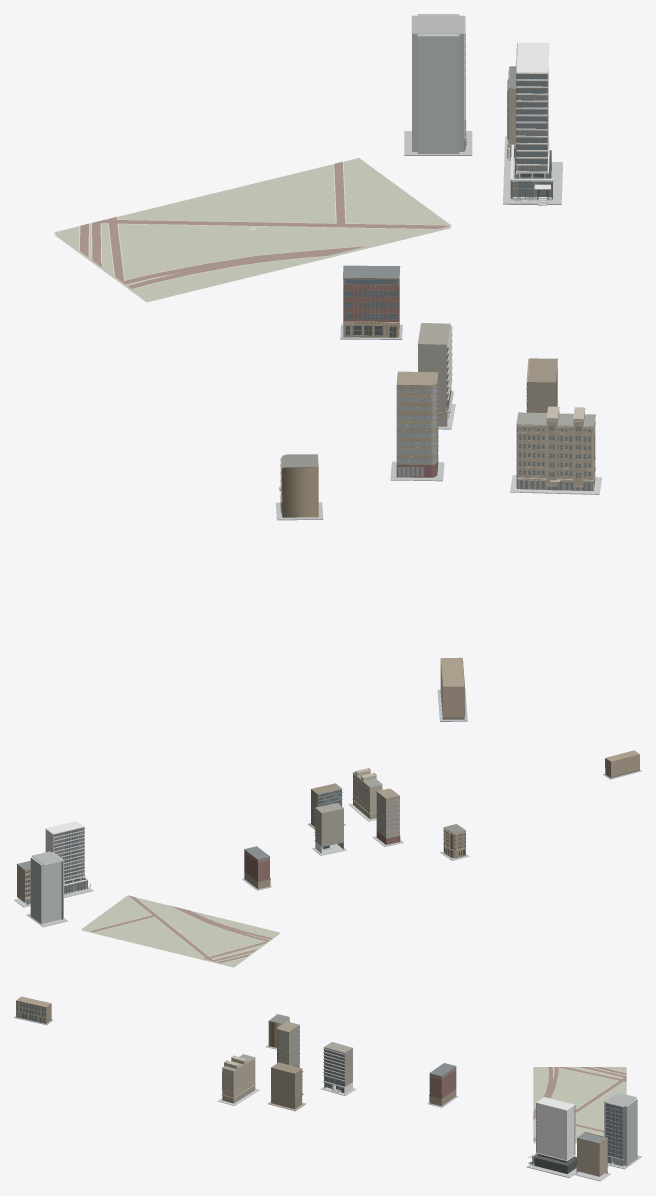
File: bogota.glb
The picture shows the model from 3 angles, top to bottom: view 1: azimuth 30°, elevation 25°; view 2: azimuth 150°, elevation 25°; view 3: azimuth 270°, elevation 25°; orthographic projection. The views are drawn at different scales.
Visible parts, largest first — view 1: Terreno.001, PATRIMONIO_02__Cuerpo principal del edificio, MAPA_V1_CALZADAS_COLOR_PIEDRA.001, PATRIMONIO_08__Cuerpo principal piedra, PATRIMONIO_10__Cuerpo de piedra con esquina curva REAL, MANZANAS_BORDES_DE_ACERA_SUTILES.001, PATRIMONIO_02__Pared lateral ciega, PATRIMONIO_05__Cuerpo de ladrillo, PATRIMONIO_06__Cuerpo superior, PATRIMONIO_04__Base de presentacion.001, PATRIMONIO_04__Azotea plana; view 2: Terreno.001, PATRIMONIO_02__Cuerpo principal del edificio, MAPA_V1_CALZADAS_COLOR_PIEDRA.001, PATRIMONIO_06__Cuerpo superior, PATRIMONIO_08__Cuerpo principal piedra, MANZANAS_BORDES_DE_ACERA_SUTILES.001, PATRIMONIO_11__Volumen principal de piedra, PATRIMONIO_05__Cuerpo de ladrillo, PATRIMONIO_03__Cuerpo principal revestido de piedra, PATRIMONIO_10__Cuerpo de piedra con esquina curva REAL; view 3: Terreno.001, PATRIMONIO_04__Nucleo torre, PATRIMONIO_02__Cuerpo principal del edificio, PATRIMONIO_03__Cuerpo principal revestido de piedra, MAPA_V1_CALZADAS_COLOR_PIEDRA.001, PATRIMONIO_08__Cuerpo principal piedra, PATRIMONIO_09__Cuerpo superior beige, PATRIMONIO_05__Cuerpo de ladrillo, PATRIMONIO_04__Interior de basamento retranqueado, PATRIMONIO_06__Cuerpo superior, MANZANAS_BORDES_DE_ACERA_SUTILES.001.
Boxes of the visible parts, x1,y1,x2,y2 form: Terreno.001: (54,158,451,302); PATRIMONIO_02__Cuerpo principal del edificio: (417,14,459,153); MAPA_V1_CALZADAS_COLOR_PIEDRA.001: (80,162,450,288); PATRIMONIO_08__Cuerpo principal piedra: (516,421,595,479); PATRIMONIO_10__Cuerpo de piedra con esquina curva REAL: (282,467,318,517); MANZANAS_BORDES_DE_ACERA_SUTILES.001: (79,161,451,289); PATRIMONIO_02__Pared lateral ciega: (412,34,464,151); PATRIMONIO_05__Cuerpo de ladrillo: (343,279,399,321); PATRIMONIO_06__Cuerpo superior: (418,344,447,412); PATRIMONIO_04__Base de presentacion.001: (503,161,562,204); PATRIMONIO_04__Azotea plana: (517,42,548,72); Terreno.001: (81,895,279,967); PATRIMONIO_02__Cuerpo principal del edificio: (30,852,63,924); MAPA_V1_CALZADAS_COLOR_PIEDRA.001: (90,895,272,963); PATRIMONIO_06__Cuerpo superior: (315,808,343,846); PATRIMONIO_08__Cuerpo principal piedra: (353,774,382,813); MANZANAS_BORDES_DE_ACERA_SUTILES.001: (90,895,272,963); PATRIMONIO_11__Volumen principal de piedra: (605,754,639,776); PATRIMONIO_05__Cuerpo de ladrillo: (244,853,269,881); PATRIMONIO_03__Cuerpo principal revestido de piedra: (17,865,30,902); PATRIMONIO_10__Cuerpo de piedra con esquina curva REAL: (443,828,465,858); Terreno.001: (533,1067,626,1143); PATRIMONIO_04__Nucleo torre: (536,1103,574,1160); PATRIMONIO_02__Cuerpo principal del edificio: (604,1093,637,1165); PATRIMONIO_03__Cuerpo principal revestido de piedra: (577,1139,607,1176); MAPA_V1_CALZADAS_COLOR_PIEDRA.001: (533,1067,626,1141); PATRIMONIO_08__Cuerpo principal piedra: (222,1058,255,1097); PATRIMONIO_09__Cuerpo superior beige: (271,1068,302,1098); PATRIMONIO_05__Cuerpo de ladrillo: (429,1070,456,1098); PATRIMONIO_04__Interior de basamento retranqueado: (534,1155,576,1173); PATRIMONIO_06__Cuerpo superior: (324,1047,352,1086); MANZANAS_BORDES_DE_ACERA_SUTILES.001: (533,1067,626,1141).
Bounding box in the file's own units: 254 × 46.5 × 403.
